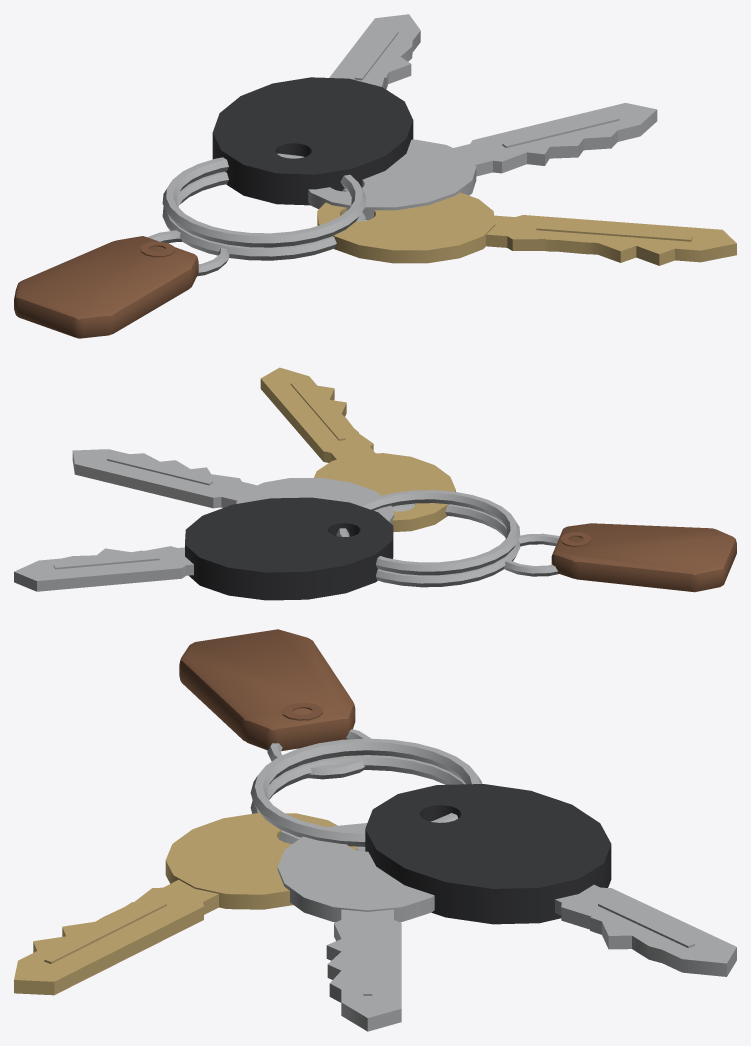
Rendered from Keys.fbx.
3 views of the same model, one above another, from view 1: azimuth 30°, elevation 25°; view 2: azimuth 150°, elevation 25°; view 3: azimuth 270°, elevation 25° (orthographic). The views are drawn at different scales.
Visible parts, largest first — view 1: Keys_Mesh; view 2: Keys_Mesh; view 3: Keys_Mesh.
Part boxes in pixels (<box>): Keys_Mesh: <box>14,14,736,338</box>; Keys_Mesh: <box>14,367,736,600</box>; Keys_Mesh: <box>14,629,736,1031</box>.
Bounding box in the file's own units: 0.1201 × 0.0052 × 0.0963.
